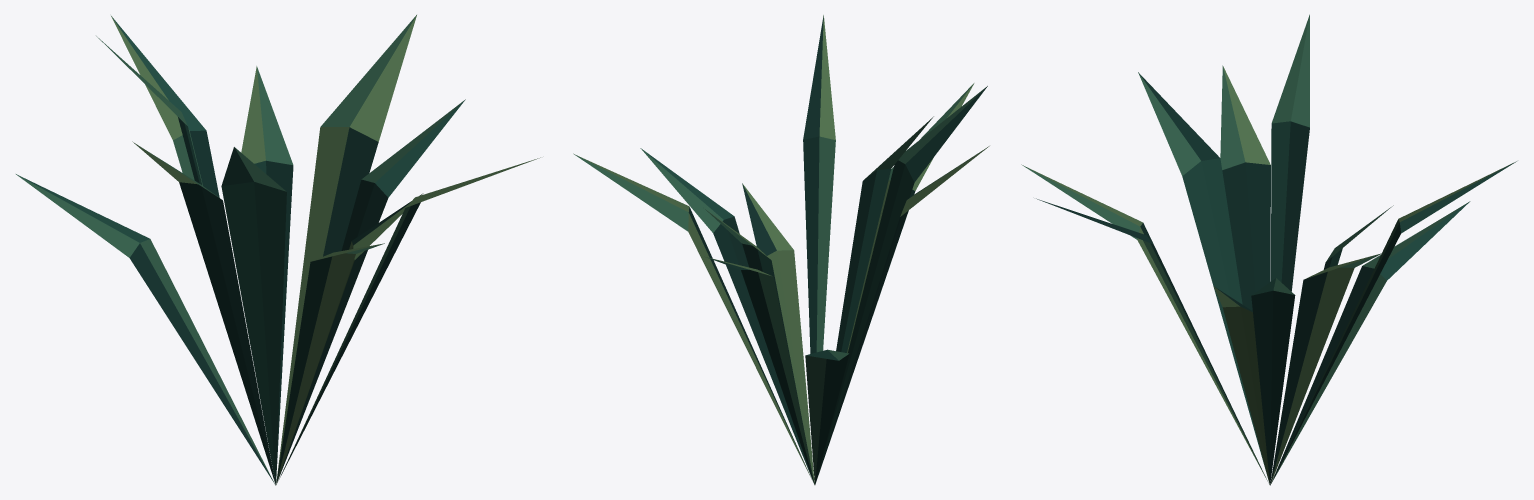
Rendered from SM_Eco_FanPlant.glb.
3 views of the same model, side by side, from view 1: azimuth 30°, elevation 25°; view 2: azimuth 150°, elevation 25°; view 3: azimuth 270°, elevation 25° (orthographic). The views are drawn at different scales.
Visible parts, largest first — view 1: SM_Eco_FanPlant; view 2: SM_Eco_FanPlant; view 3: SM_Eco_FanPlant.
Part boxes in pixels (x1=…): SM_Eco_FanPlant: x1=16, y1=15, x2=540, y2=485; SM_Eco_FanPlant: x1=573, y1=15, x2=989, y2=485; SM_Eco_FanPlant: x1=1021, y1=14, x2=1516, y2=485.
Size of the model in its own units: 1.81 by 2.16 by 2.41.
1 material, 1 textured.
